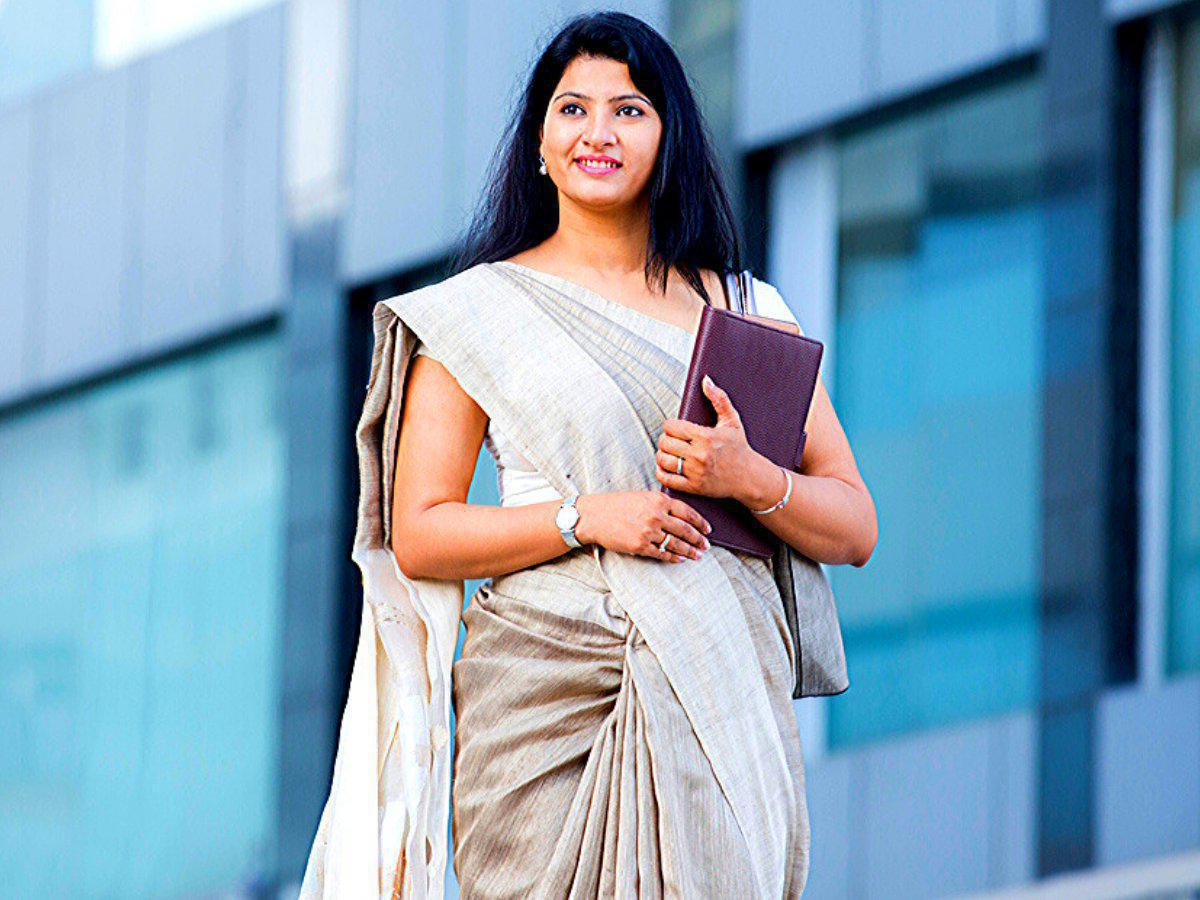Sober: (543, 66, 662, 190)
